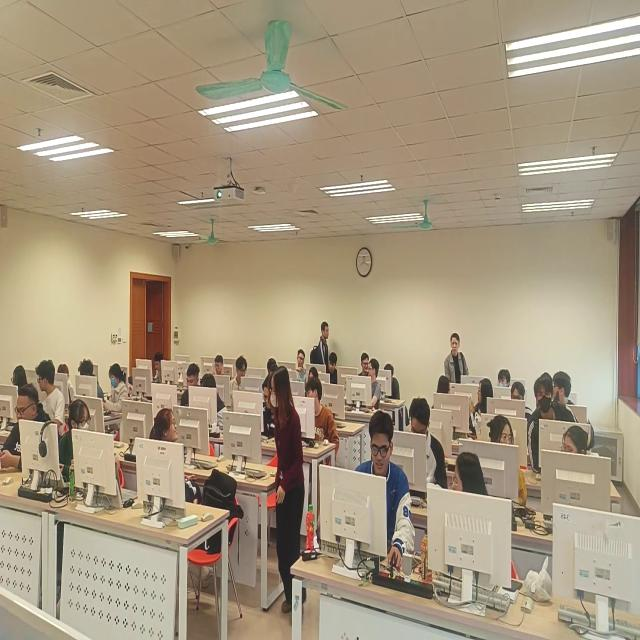raise_head: (497, 367, 512, 394)
stand: (269, 366, 306, 629), (529, 373, 579, 475), (445, 331, 470, 393), (311, 320, 331, 380)
using_computer: (354, 411, 416, 575), (1, 382, 55, 477), (403, 396, 448, 493), (35, 358, 67, 441), (103, 362, 129, 418), (261, 369, 275, 442), (511, 379, 535, 421), (381, 362, 404, 404), (180, 363, 200, 410), (325, 350, 341, 389), (148, 353, 167, 385), (10, 364, 29, 394), (215, 351, 226, 377), (268, 359, 278, 376)
